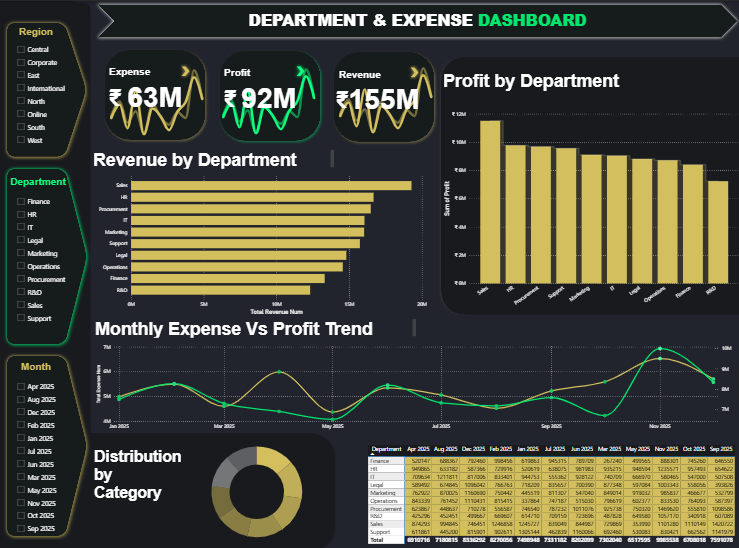

This screenshot's page, from the dashboard's own definition file:
{"tool":"powerbi","page":{"name":"Page 2","canvas":[1780,1320],"ordinal":1},"visuals":[{"type":"shape","box":[520,110,259.7,234.9],"z":0},{"type":"shape","title":"shadow","box":[607.2,1039.2,201.6,280.8],"z":1000},{"type":"shape","title":"shadow","box":[153.3,0,70,1320],"z":2000},{"type":"shape","box":[0,0,217.5,1320],"z":3000},{"type":"shape","box":[243.6,108.7,259.7,234.9],"z":4000},{"type":"shape","box":[704.6,149.1,36.1,39],"z":5000},{"type":"clusteredBarChart","fields":{"Category":["finance_master.Department"],"Y":["finance_master.Total Revenue Num"]},"box":[228,408,804,350.4],"z":6000},{"type":"shape","box":[430.6,147.7,36.1,39],"z":7000},{"type":"shape","box":[0,1037.5,807.5,282.5],"z":8000},{"type":"shape","box":[9.6,842.4,211.2,451.2],"z":9000},{"type":"shape","box":[794.6,113.4,259.7,234.9],"z":10000},{"type":"shape","box":[10,42.5,210,340],"z":11000},{"type":"shape","box":[979.7,151.8,36.1,40.4],"z":12000},{"type":"shape","box":[1055,135,76.7,618.9],"z":13000,"group":"g1"},{"type":"shape","box":[9.6,393.6,211.2,439.2],"z":13000},{"type":"textbox","box":[810,158,148,40],"z":14000},{"type":"slicer","fields":{"Values":["finance_master.Region"]},"box":[30,95,152.5,287.5],"z":15000},{"type":"shape","box":[1060.5,135,719.5,618.9],"z":15000,"group":"g1"},{"type":"textbox","box":[536,154,138,40],"z":16000},{"type":"lineClusteredColumnComboChart","fields":{"Y":["Sum(finance_master.Profit)"],"Y2":["Sum(finance_master.Profit)"],"Category":["finance_master.Department"]},"box":[1060.5,257.8,719.5,496.1],"z":16000,"group":"g1"},{"type":"slicer","fields":{"Values":["finance_master.Department"]},"box":[31.2,460.8,151.2,343.2],"z":17000},{"type":"textbox","box":[260,152,138,38],"z":18000},{"type":"slicer","fields":{"Values":["finance_master.Month Name"]},"box":[31.2,904.8,151.2,415.2],"z":19000},{"type":"lineChart","fields":{"Y":["Sum(finance_master.Expense)"],"Y2":["Sum(finance_master.Revenue)"],"Category":["finance_master.Date.Variation.Date Hierarchy.Year","finance_master.Date.Variation.Date Hierarchy.Month"]},"box":[253.9,138.9,248.4,209.9],"z":20000},{"type":"textbox","box":[0,55.2,177.6,40.8],"z":21000},{"type":"lineChart","fields":{"Y":["Sum(finance_master.Expense)"],"Y2":["Sum(finance_master.Revenue)"],"Category":["finance_master.Date.Variation.Date Hierarchy.Year","finance_master.Date.Variation.Date Hierarchy.Month"]},"box":[804,133.5,248.4,209.9],"z":22000},{"type":"lineChart","fields":{"Y":["Sum(finance_master.Expense)"],"Y2":["Sum(finance_master.Revenue)"],"Category":["finance_master.Date.Variation.Date Hierarchy.Year","finance_master.Date.Variation.Date Hierarchy.Month"]},"box":[524,136,248,210],"z":23000},{"type":"card","fields":{"Values":["finance_master.Dept Revenue"]},"box":[794,177.6,259,105.5],"z":24000},{"type":"textbox","box":[4.8,415.2,177.6,38.4],"z":25000},{"type":"card","fields":{"Values":["finance_master.Dept Profit"]},"box":[530.2,175.4,234.1,103.3],"z":26000},{"type":"shape","box":[228,0,1552.8,96],"z":27000},{"type":"textbox","box":[1059.8,163.8,511.2,72],"z":28000,"group":"g1"},{"type":"textbox","box":[0,859.2,177.6,40.8],"z":28000},{"type":"card","fields":{"Values":["finance_master.Dept Expense"]},"box":[249.4,173.3,248.1,103.3],"z":29000},{"type":"textbox","box":[225.6,758.4,780,55.2],"z":30000},{"type":"textbox","box":[228,14.4,1552.8,79.2],"z":31000},{"type":"textbox","box":[220.8,352.8,588,55.2],"z":32000},{"type":"lineChart","fields":{"Y":["finance_master.Total Expense Num"],"Category":["finance_master.Date.Variation.Date Hierarchy.Year","finance_master.Date.Variation.Date Hierarchy.Month"],"Y2":["finance_master.Total Profit Num"]},"box":[227.5,815,1552.5,222.5],"z":33000},{"type":"group","id":"g1","title":"Group 2","box":[1055,135,725,618.9],"z":34000},{"type":"donutChart","fields":{"Category":["finance_master.Expense_Category"],"Y":["finance_master.Total Expense Num"]},"box":[452.5,1037.5,330,282.5],"z":35000},{"type":"pivotTable","fields":{"Rows":["finance_master.Department"],"Columns":["finance_master.Month Year"],"Values":["finance_master.Total Profit Num"]},"box":[880,1060,896,252],"z":36000},{"type":"textbox","box":[224,1068,274,190],"z":37000},{"type":"textbox","box":[259.2,194.4,100.8,84],"z":38000},{"type":"textbox","box":[804,199.2,88.8,79.2],"z":39000},{"type":"textbox","box":[535.2,196.8,72,86.4],"z":40000}]}

Visuals, with their boxes in screenshot pixels (x1, y1, x2, y2), scaled from the page's 1780x1320 canvas onto the 739x548 screenshot:
shape: rect(216, 46, 324, 143)
"shadow" shape: rect(252, 431, 336, 547)
"shadow" shape: rect(64, 0, 93, 547)
shape: rect(0, 0, 90, 547)
shape: rect(101, 45, 209, 143)
shape: rect(293, 62, 308, 78)
clusteredBarChart - finance_master.Department x finance_master.Total Revenue Num: rect(95, 169, 428, 315)
shape: rect(179, 61, 194, 78)
shape: rect(0, 431, 335, 547)
shape: rect(4, 350, 92, 537)
shape: rect(330, 47, 438, 145)
shape: rect(4, 18, 91, 159)
shape: rect(407, 63, 422, 80)
shape: rect(438, 56, 470, 313)
shape: rect(4, 163, 92, 346)
textbox: rect(336, 66, 398, 82)
slicer - finance_master.Region: rect(12, 39, 76, 159)
shape: rect(440, 56, 738, 313)
textbox: rect(223, 64, 280, 81)
lineClusteredColumnComboChart - Sum(finance_master.Profit) x Sum(finance_master.Profit): rect(440, 107, 738, 313)
slicer - finance_master.Department: rect(13, 191, 76, 334)
textbox: rect(108, 63, 165, 79)
slicer - finance_master.Month Name: rect(13, 376, 76, 547)
lineChart - Sum(finance_master.Expense) x Sum(finance_master.Revenue): rect(105, 58, 209, 145)
textbox: rect(0, 23, 74, 40)
lineChart - Sum(finance_master.Expense) x Sum(finance_master.Revenue): rect(334, 55, 437, 143)
lineChart - Sum(finance_master.Expense) x Sum(finance_master.Revenue): rect(218, 56, 321, 144)
card - finance_master.Dept Revenue: rect(330, 74, 437, 118)
textbox: rect(2, 172, 76, 188)
card - finance_master.Dept Profit: rect(220, 73, 317, 116)
shape: rect(95, 0, 738, 40)
textbox: rect(440, 68, 652, 98)
textbox: rect(0, 357, 74, 374)
card - finance_master.Dept Expense: rect(104, 72, 207, 115)
textbox: rect(94, 315, 417, 338)
textbox: rect(95, 6, 738, 39)
textbox: rect(92, 146, 336, 169)
lineChart - finance_master.Total Expense Num x finance_master.Date.Variation.Date Hierarchy.Year: rect(94, 338, 738, 431)
"Group 2" group: rect(438, 56, 738, 313)
donutChart - finance_master.Expense_Category x finance_master.Total Expense Num: rect(188, 431, 325, 547)
pivotTable - finance_master.Department x finance_master.Month Year: rect(365, 440, 737, 545)
textbox: rect(93, 443, 207, 522)
textbox: rect(108, 81, 149, 116)
textbox: rect(334, 83, 371, 116)
textbox: rect(222, 82, 252, 118)
